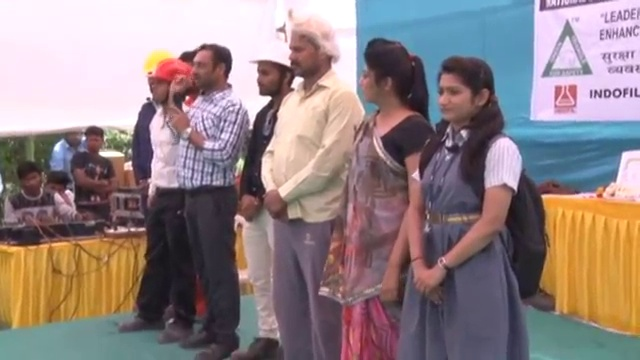helmet: (244, 35, 293, 69), (147, 54, 196, 86)
helmet_off: (431, 54, 500, 136), (355, 33, 422, 111), (281, 18, 344, 83), (181, 44, 234, 95), (16, 162, 42, 196), (44, 170, 71, 197), (84, 128, 104, 155), (62, 127, 83, 150)
helmet_on: (247, 36, 291, 99), (147, 56, 195, 113)
person: (407, 53, 550, 360), (257, 13, 366, 360), (346, 31, 436, 345), (165, 42, 253, 352), (117, 56, 196, 345), (228, 35, 292, 359), (0, 162, 81, 236), (69, 127, 110, 214), (49, 126, 84, 170)
